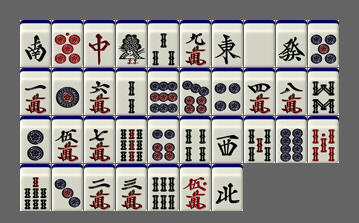0m: (180, 164, 211, 211)
0p: (52, 20, 83, 67)
0s: (308, 116, 339, 163)
1m: (20, 68, 51, 115)
1p: (52, 68, 83, 115)
1s: (116, 20, 147, 67)
1z: (212, 20, 243, 67)
2m: (84, 164, 115, 211)
2p: (20, 116, 51, 163)
2s: (116, 68, 147, 115)
2z: (20, 20, 51, 67)
3m: (116, 164, 147, 211)
3p: (52, 164, 83, 211)
3s: (148, 20, 179, 67)
3z: (212, 116, 243, 163)
4m: (244, 68, 275, 115)
4p: (212, 68, 243, 115)
4s: (180, 116, 211, 163)
4z: (212, 164, 243, 211)
5m: (52, 116, 83, 163)
5p: (308, 20, 339, 67)
5s: (244, 116, 275, 163)
5z: (244, 20, 275, 67)
6m: (84, 68, 115, 115)
6p: (148, 116, 179, 163)
6s: (148, 164, 179, 211)
6z: (276, 20, 307, 67)
7m: (84, 116, 115, 163)
7p: (180, 68, 211, 115)
7s: (20, 164, 51, 211)
7z: (84, 20, 115, 67)
8m: (276, 68, 307, 115)
8p: (276, 116, 307, 163)
8s: (308, 68, 339, 115)
9m: (180, 20, 211, 67)
9p: (148, 68, 179, 115)
9s: (116, 116, 147, 163)
